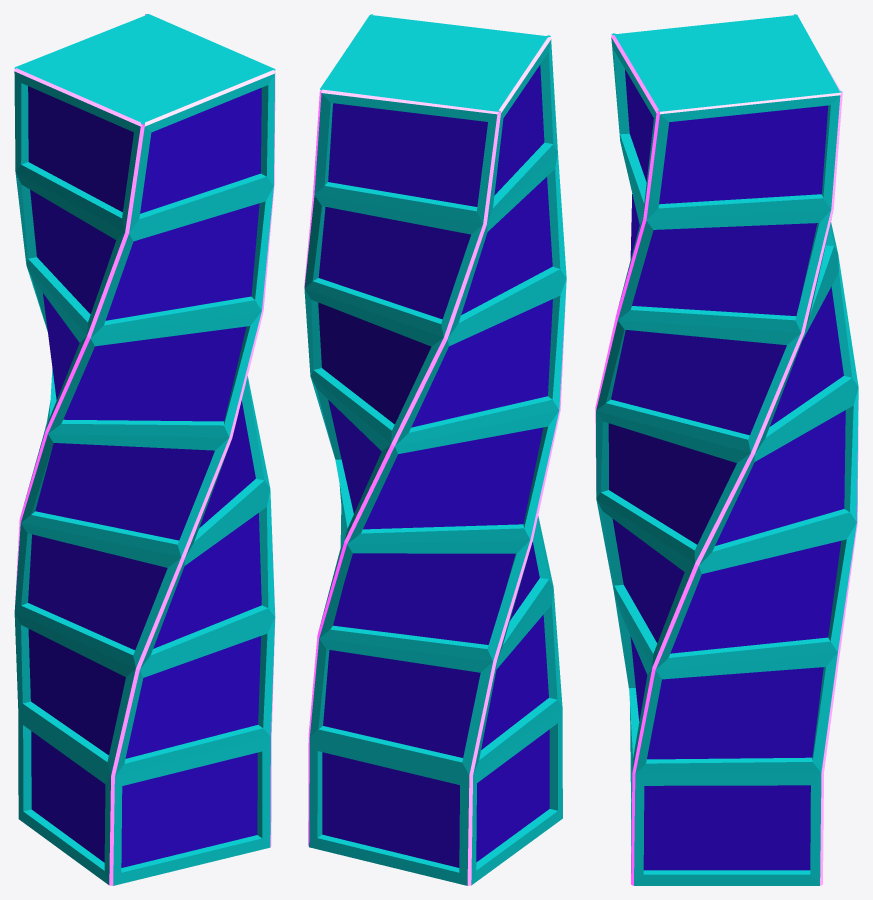
Rendered from tower.fbx.
3 renders of one model, left to right at view 1: azimuth 30°, elevation 25°; view 2: azimuth 150°, elevation 25°; view 3: azimuth 270°, elevation 25°, orthographic. The views are drawn at different scales.
Visible parts, largest first — view 1: Cube.001; view 2: Cube.001; view 3: Cube.001.
Boxes of the visible parts, box(x1,y1,x2,y2) form: Cube.001: box(14, 14, 275, 885); Cube.001: box(304, 14, 566, 885); Cube.001: box(595, 14, 858, 885).
Bounding box in the file's own units: 274 × 900 × 274.
